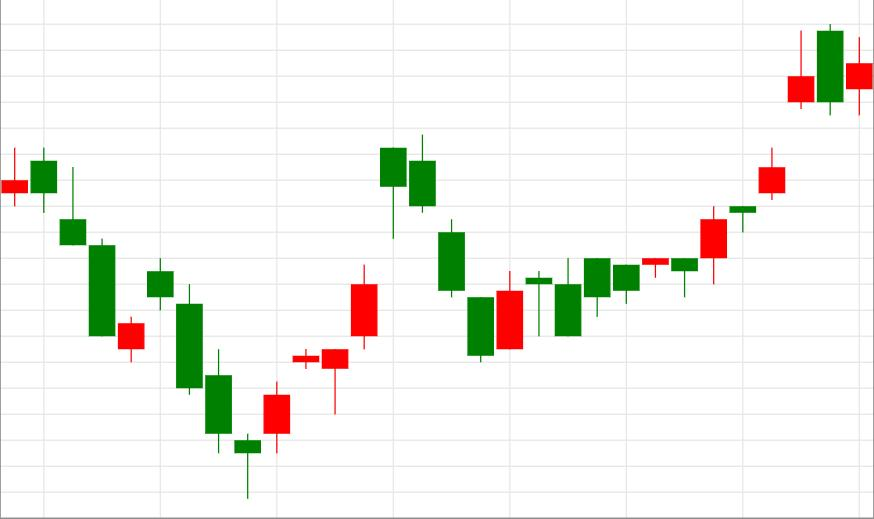hanging_man_fall: (293, 148, 406, 416)
morning_star_rise: (147, 257, 290, 498)
